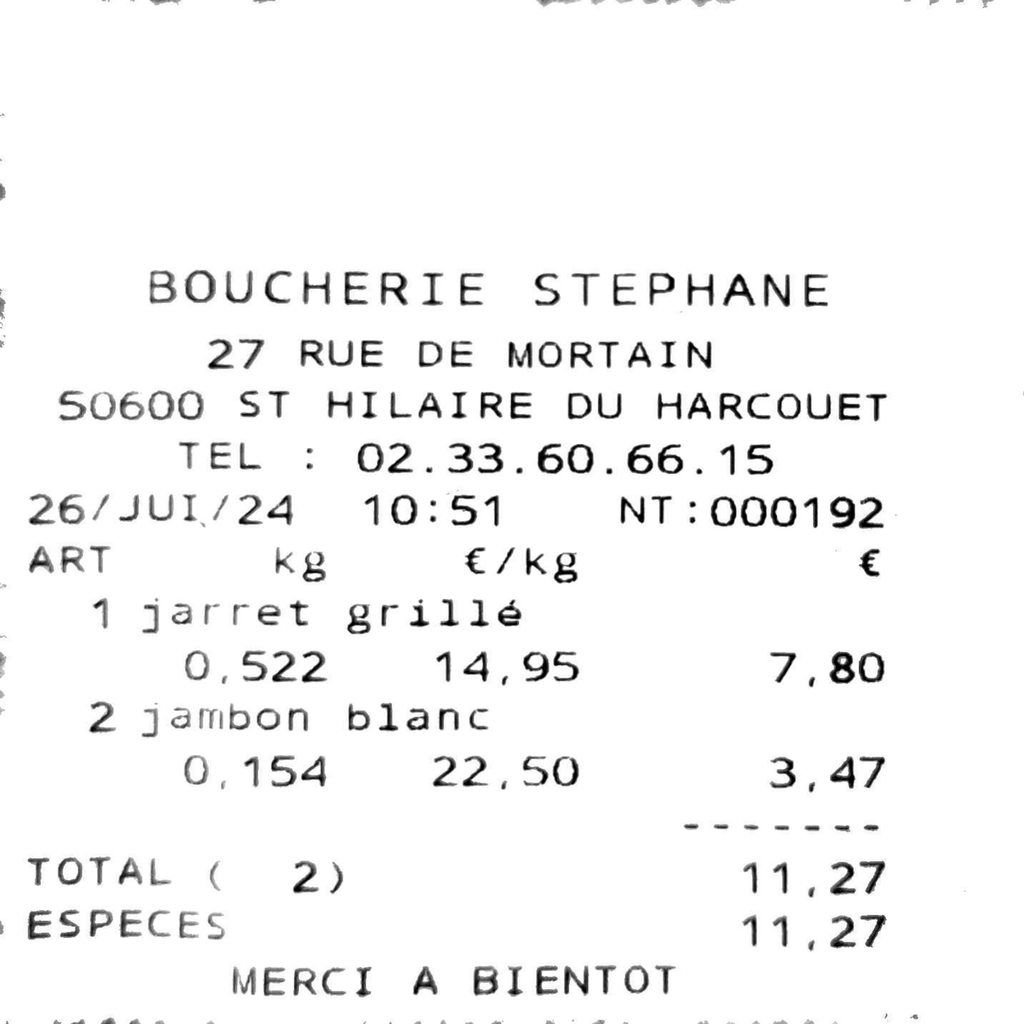recipt: (8, 8, 1020, 1014)
